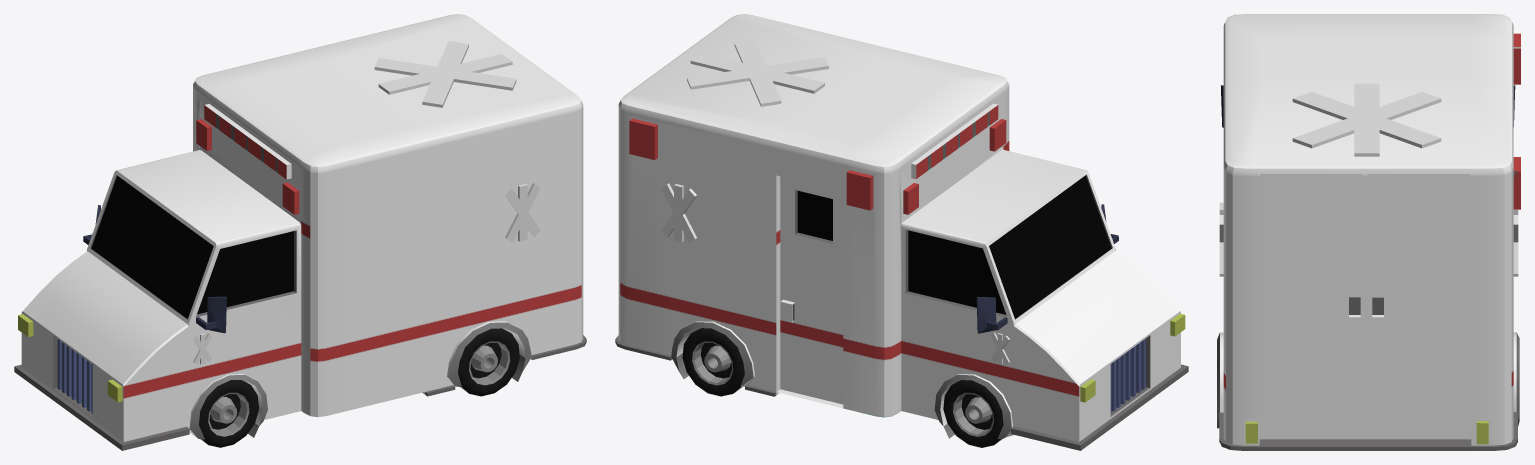
Rendered from ambulance.fbx.
3 views of the same model, side by side, from view 1: azimuth 30°, elevation 25°; view 2: azimuth 150°, elevation 25°; view 3: azimuth 270°, elevation 25° (orthographic). The views are drawn at different scales.
Parts seen in each view (by area): view 1: ambulance, Torus010, Torus009, Box025, Box026, Box024, Box016; view 2: ambulance, Torus003, Torus008, Box025, Box024, Box026; view 3: ambulance, Box026, Box025, Box024.
Part boxes in pixels (box(x1,y1,x2,y2)): ambulance: box(14, 14, 586, 450); Torus010: box(458, 328, 519, 396); Torus009: box(199, 380, 258, 447); Box025: box(422, 41, 468, 107); Box026: box(374, 58, 516, 90); Box024: box(378, 54, 512, 94); Box016: box(505, 183, 540, 242); ambulance: box(615, 14, 1188, 450); Torus003: box(682, 328, 744, 396); Torus008: box(943, 380, 1003, 447); Box025: box(687, 57, 828, 89); Box024: box(690, 53, 824, 93); Box026: box(734, 40, 781, 106); ambulance: box(1217, 14, 1520, 450); Box026: box(1292, 92, 1441, 148); Box025: box(1292, 92, 1441, 148); Box024: box(1354, 83, 1379, 156).
Bounding box in the file's own units: 262 × 147 × 129.
7 materials, 1 textured.
